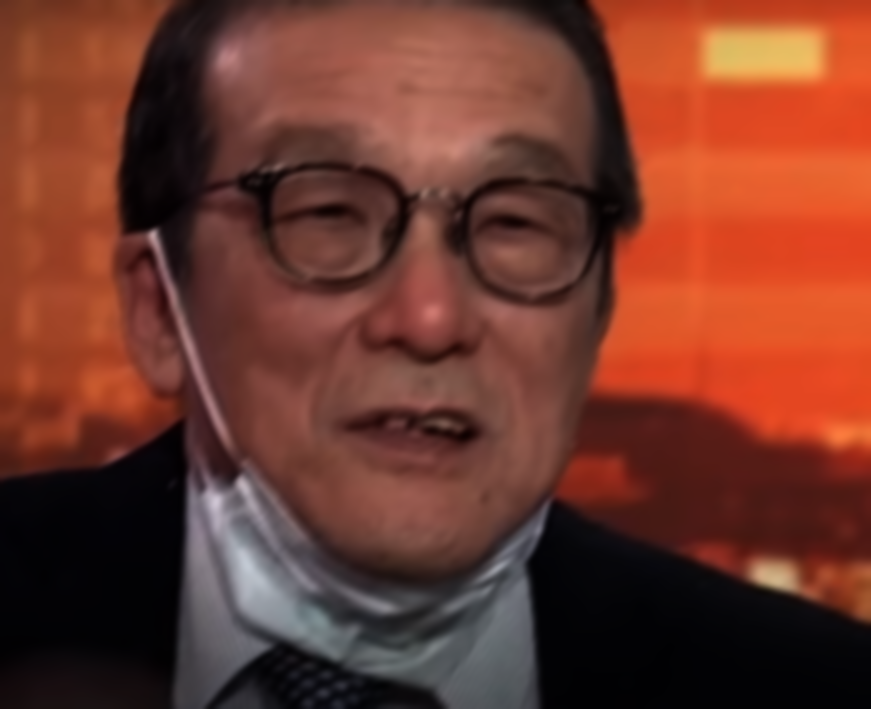mask_weared_incorrect: (105, 6, 639, 695)
